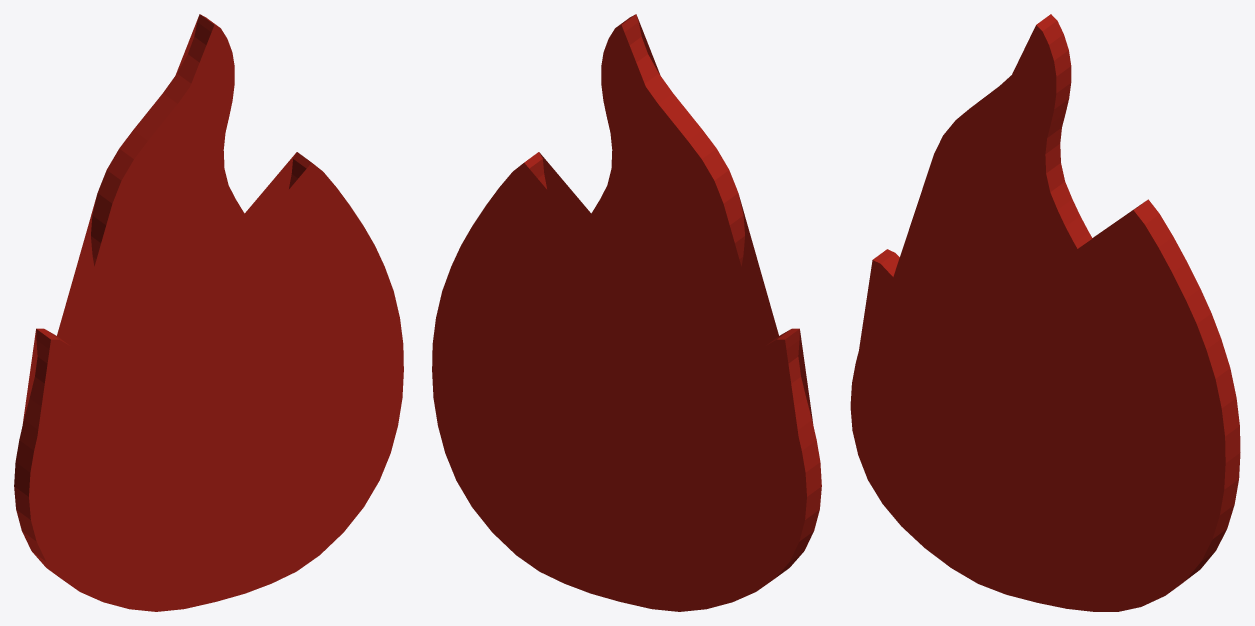
Rendered from symbol8.fbx.
The picture shows the model from 3 angles, left to right: view 1: azimuth 30°, elevation 25°; view 2: azimuth 150°, elevation 25°; view 3: azimuth 330°, elevation 25°; orthographic projection.
Parts seen in each view (by area): view 1: Plane; view 2: Plane; view 3: Plane.
Boxes of the visible parts, x1,y1,x2,y2 form: Plane: (14,14,403,611); Plane: (432,14,821,611); Plane: (850,14,1240,611).
Bounding box in the file's own units: 12.38 × 18.21 × 0.8498.
